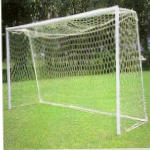goals: (4, 4, 149, 137)
